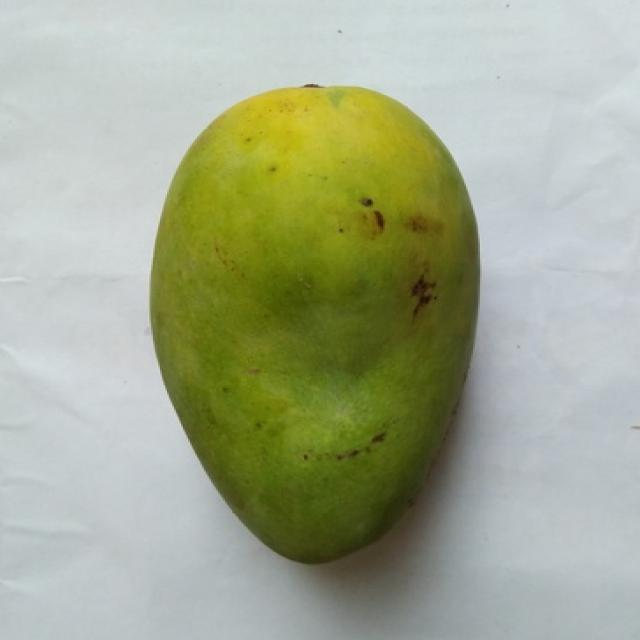Mango: (149, 85, 478, 562)
